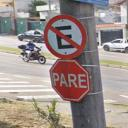NoEstacionar: (43, 14, 87, 60)
Pare: (48, 59, 92, 103)
